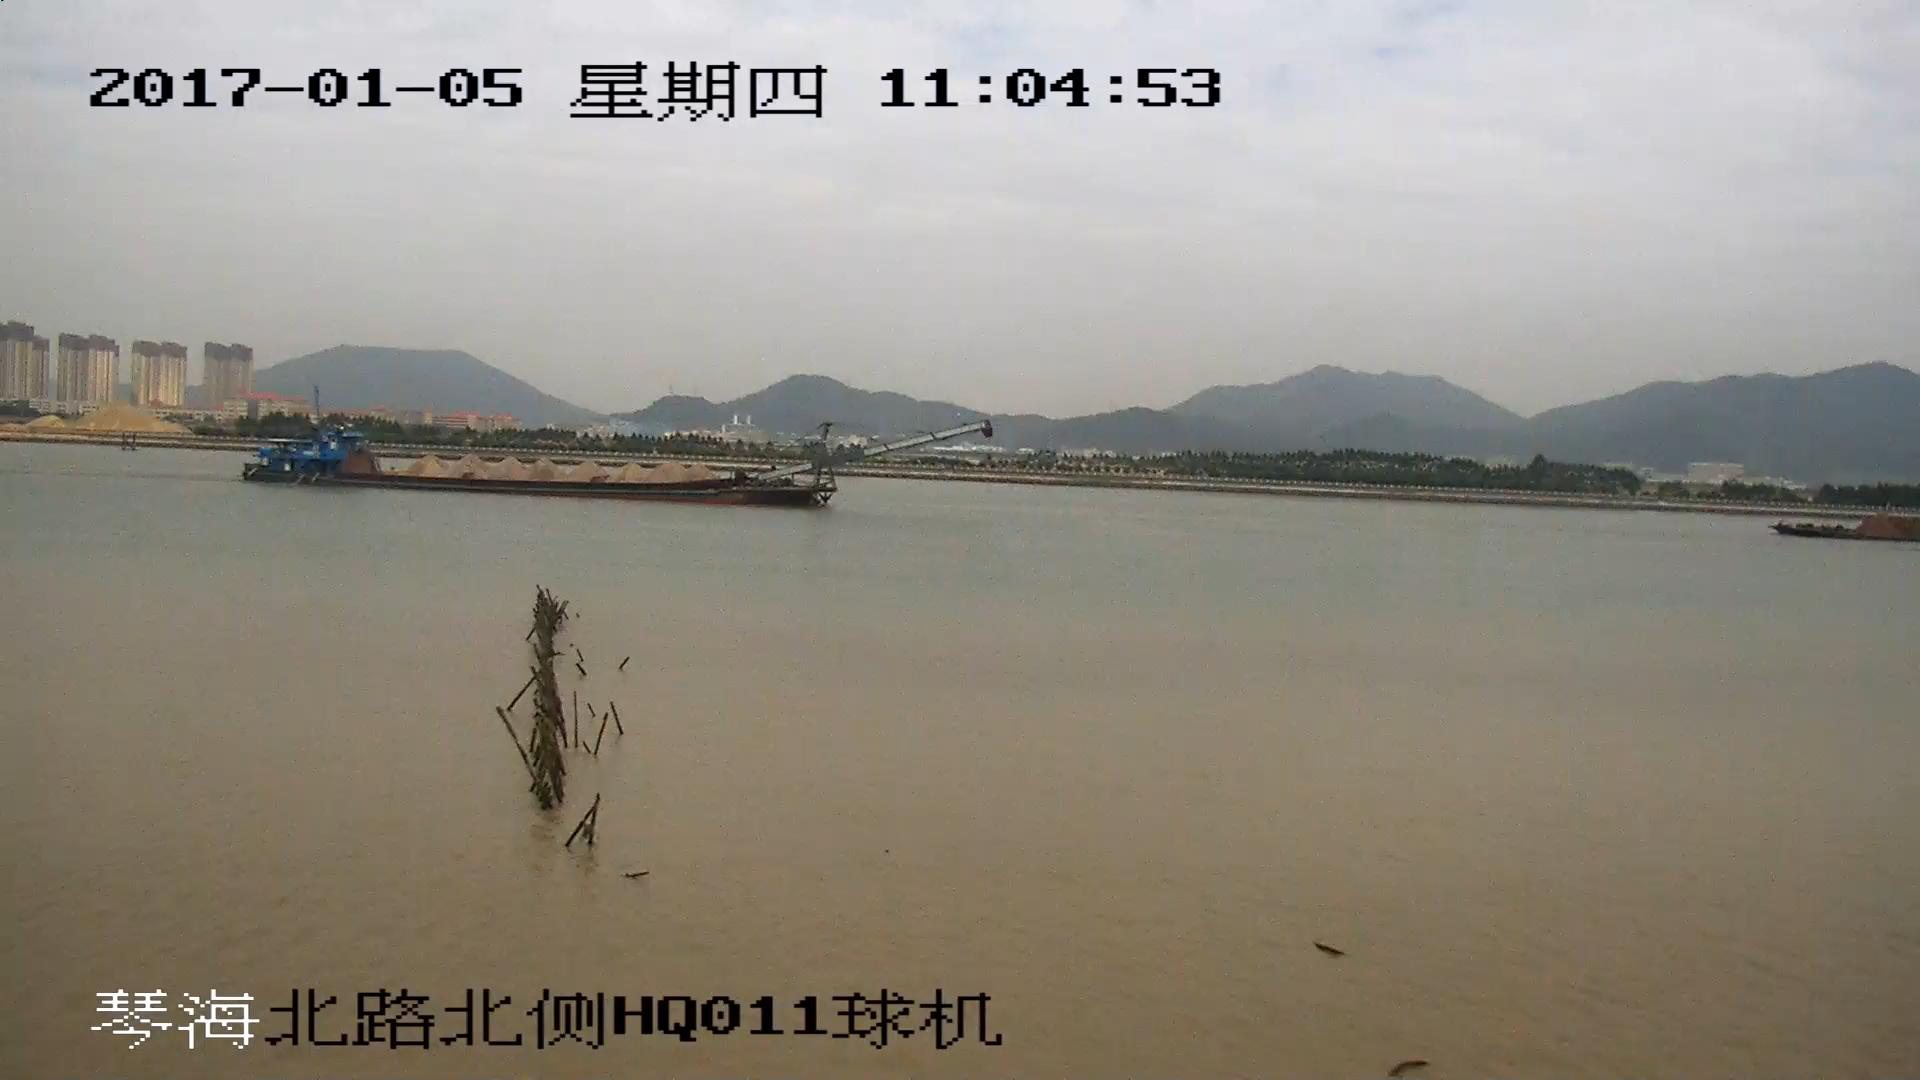ore carrier: (246, 416, 996, 500), (1778, 512, 1920, 545)
